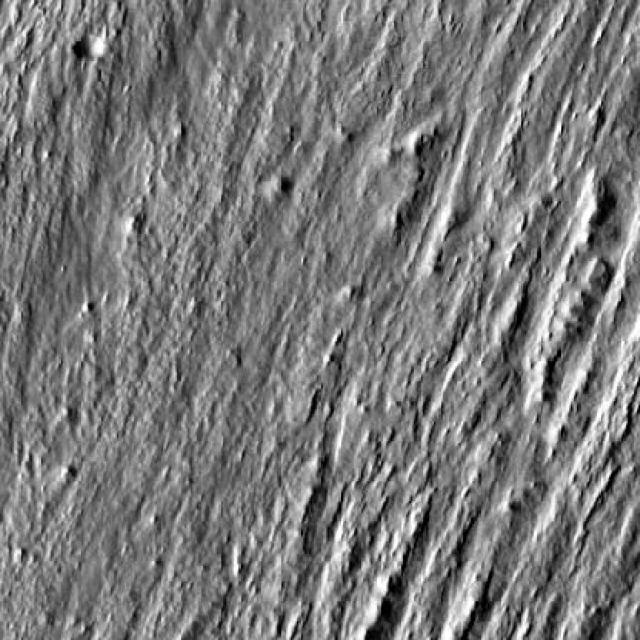crater: (74, 36, 104, 64)
